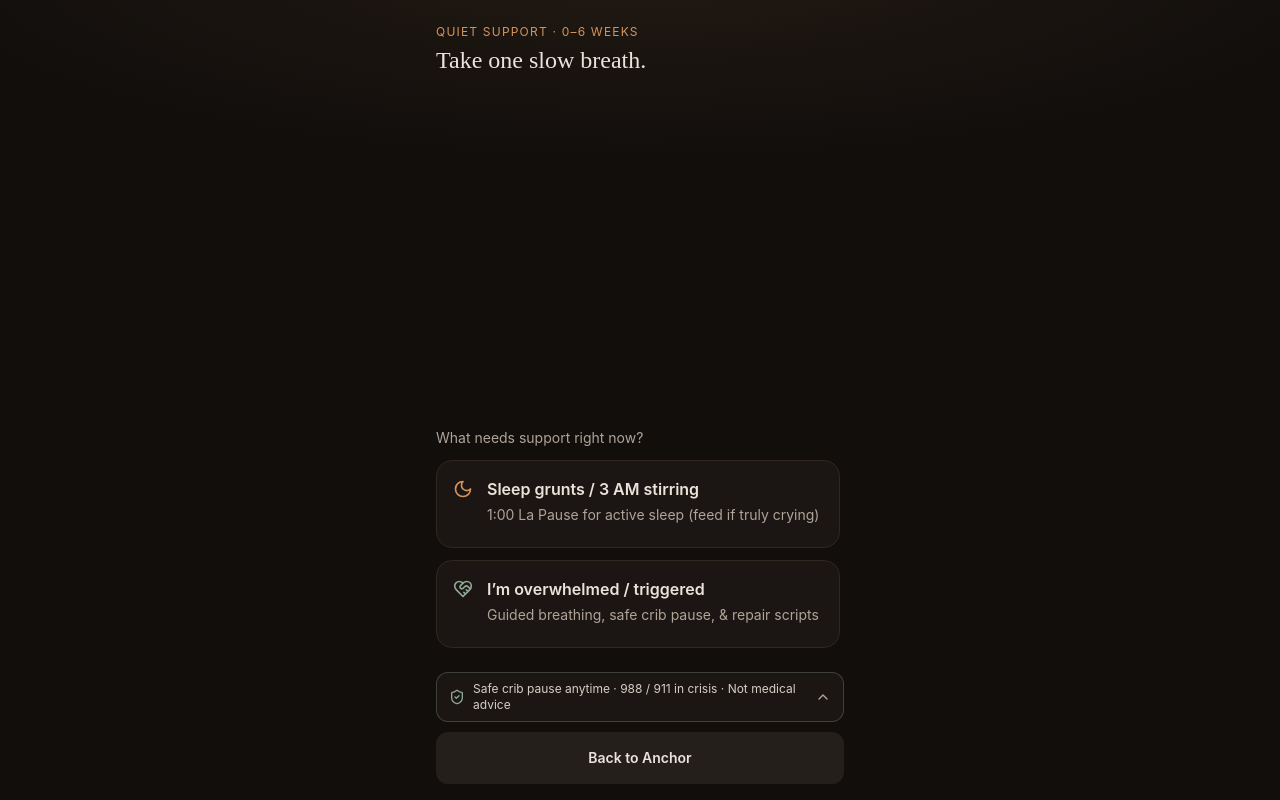
Test case: SosOverlay › shows newborn-safe 0-6w triage copy and compact expandable safety bar
The width and height of the screenshot is (1280, 800).
Expected: the text "Sleep grunts / 3 AM stirring" is shown, [487,479,699,499]
Expected: the text "I’m overwhelmed / triggered" is shown, [487,579,705,599]
Click the button "Safe crib pause anytime": click(640, 697) [437,673,843,721]
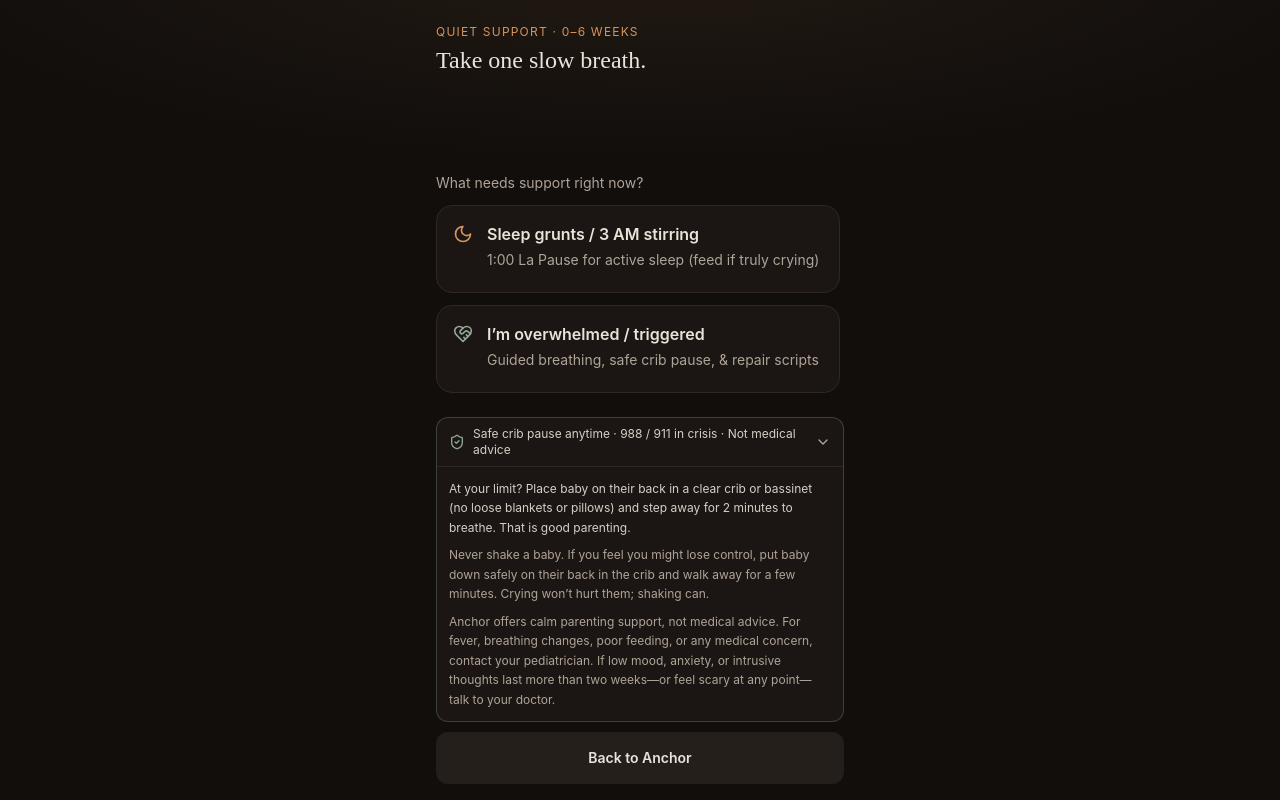
Result: the text "Anchor offers calm parenting support, not medical advice" is shown at [449,614,813,706]
